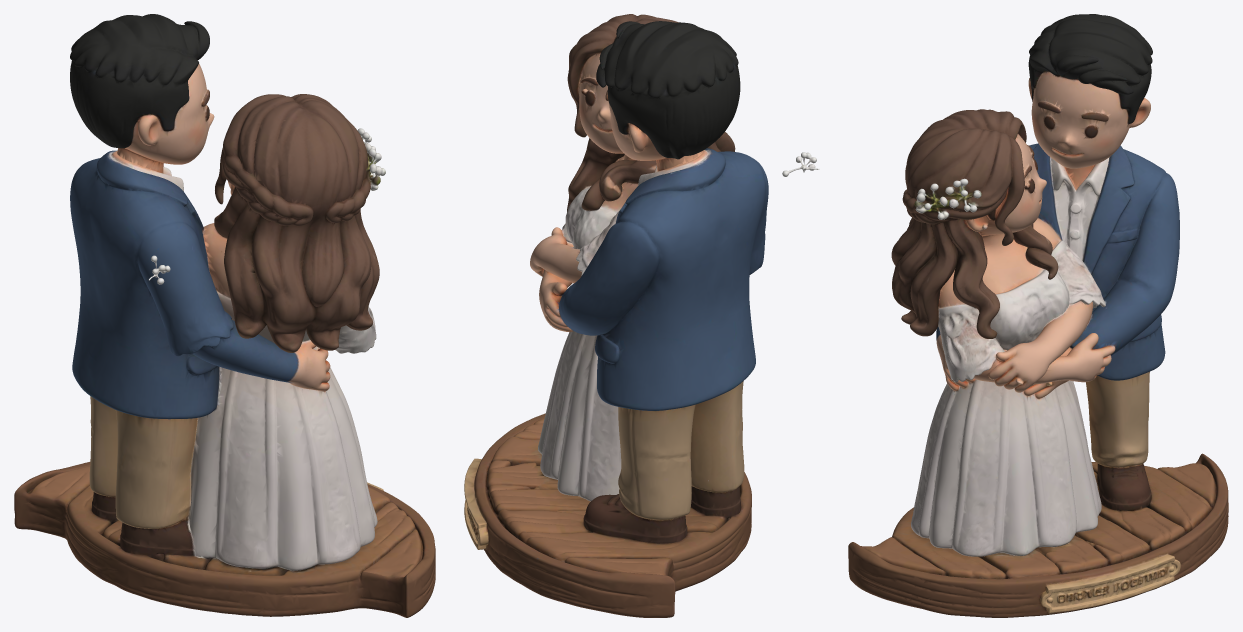
3 views of the same model, side by side, from view 1: azimuth 30°, elevation 25°; view 2: azimuth 150°, elevation 25°; view 3: azimuth 270°, elevation 25° (orthographic). The views are drawn at different scales.
Parts seen in each view (by area): view 1: tripo_node_bcf252fc-dcfc-47e3-9620-4dc89cf225a1; view 2: tripo_node_bcf252fc-dcfc-47e3-9620-4dc89cf225a1; view 3: tripo_node_bcf252fc-dcfc-47e3-9620-4dc89cf225a1.
Part boxes in pixels (<box>): tripo_node_bcf252fc-dcfc-47e3-9620-4dc89cf225a1: <box>14,14,435,617</box>; tripo_node_bcf252fc-dcfc-47e3-9620-4dc89cf225a1: <box>464,14,819,617</box>; tripo_node_bcf252fc-dcfc-47e3-9620-4dc89cf225a1: <box>848,14,1228,617</box>.
Size of the model in its own units: 0.57 by 1 by 0.6923.
1 material, 1 textured.
